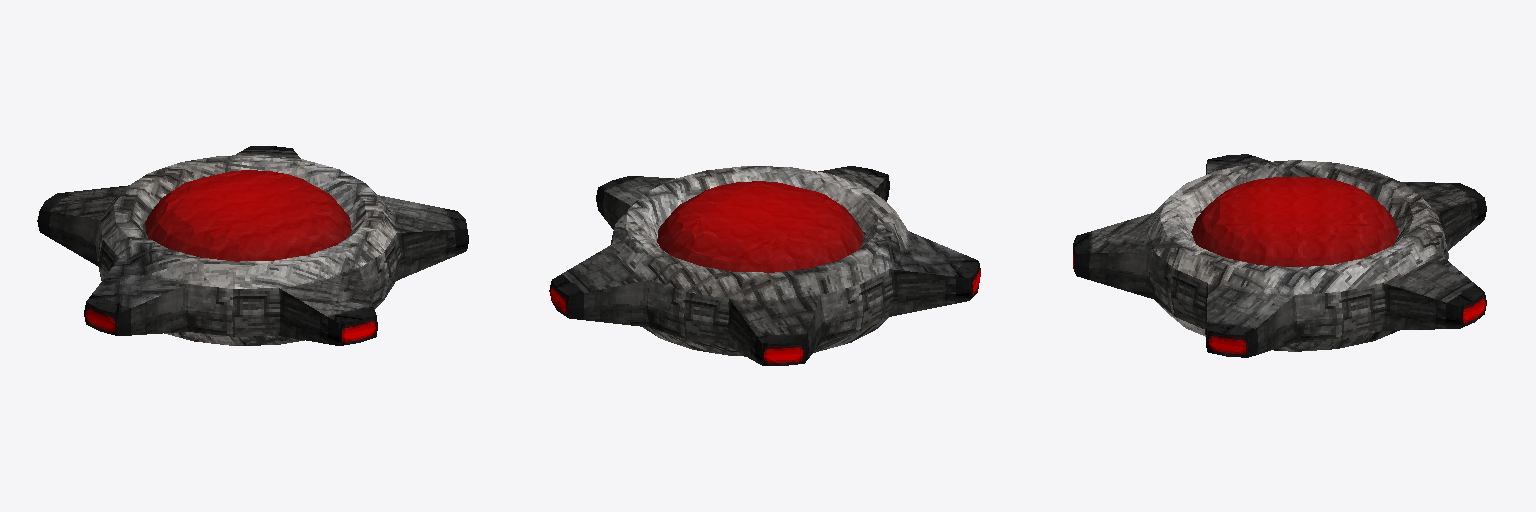
The picture shows the model from 3 angles: view 1: azimuth 30°, elevation 25°; view 2: azimuth 150°, elevation 25°; view 3: azimuth 270°, elevation 25°; orthographic projection.
Visible parts, largest first — view 1: mine; view 2: mine; view 3: mine.
Part boxes in pixels (x1,y1,x2,y2): mine: (37, 146, 468, 345); mine: (549, 166, 980, 365); mine: (1073, 154, 1486, 357).
Size of the model in its own units: 4.84 by 1.23 by 4.61.
Materials: 1 (1 with a texture image).